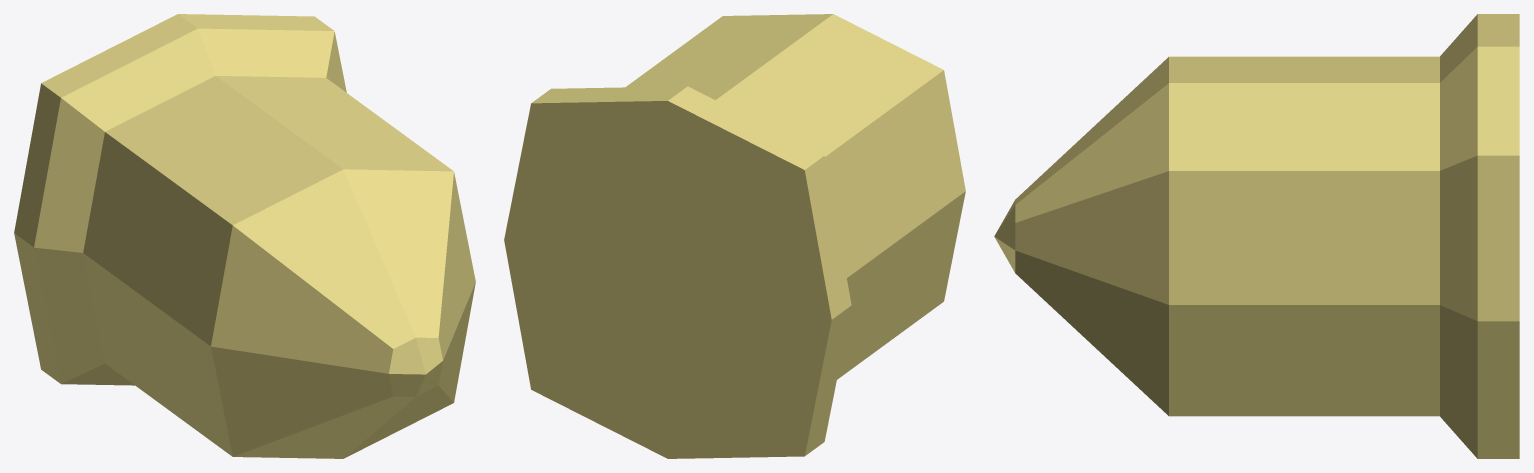
File: Bullet.fbx
The picture shows the model from 3 angles, left to right: view 1: azimuth 30°, elevation 25°; view 2: azimuth 150°, elevation 25°; view 3: azimuth 270°, elevation 25°; orthographic projection. The views are drawn at different scales.
Visible parts, largest first — view 1: Cube; view 2: Cube; view 3: Cube.
Boxes of the visible parts, bbox=[...] form: Cube: bbox=[14, 14, 475, 458]; Cube: bbox=[504, 14, 965, 458]; Cube: bbox=[994, 14, 1519, 458].
Size of the model in its own units: 1.71 by 1.79 by 2.24.
